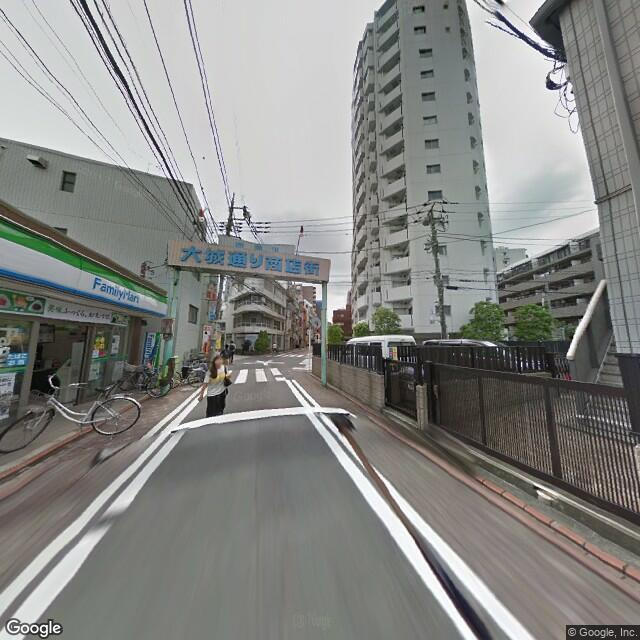family_mart: (2, 221, 168, 319), (85, 273, 144, 310)
